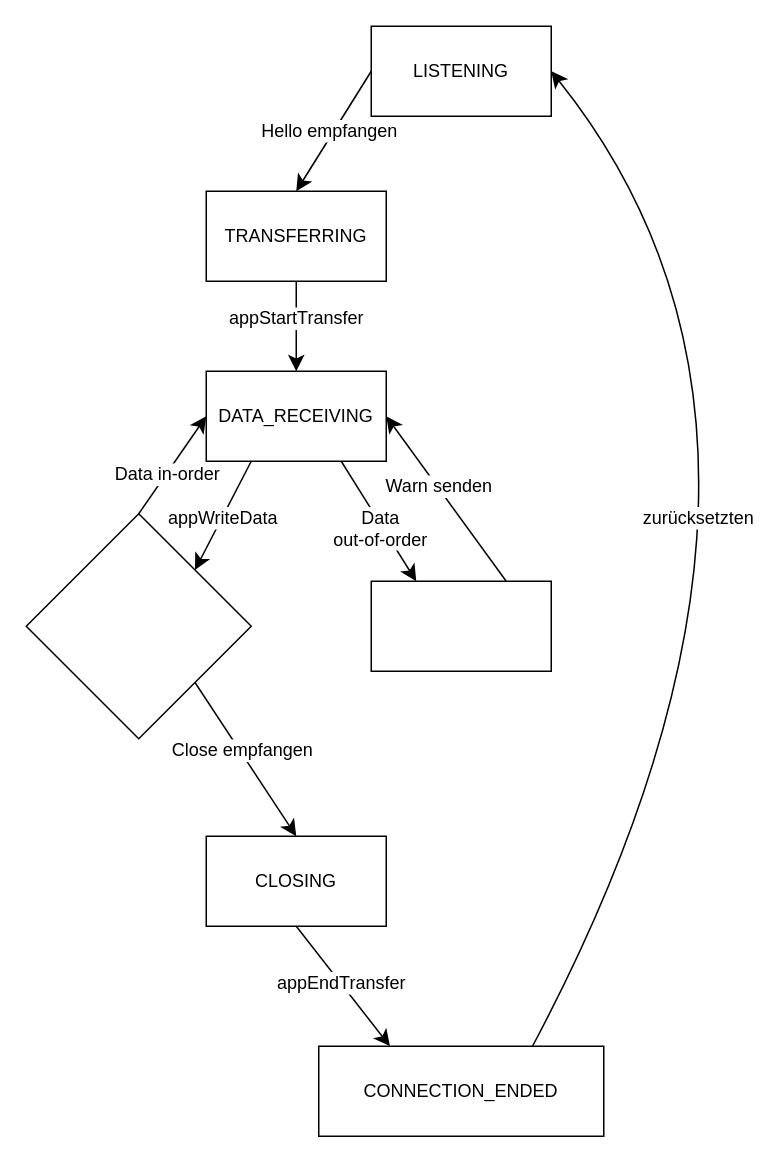
Image size: 780x1163. Some labels were removed from this diagram. Here are the shapes that lost their labels. From the top down, the centre of each, then its label:
the point at 138,625: VERARBEITUNG
the point at 460,625: OUT_OF_ORDER
